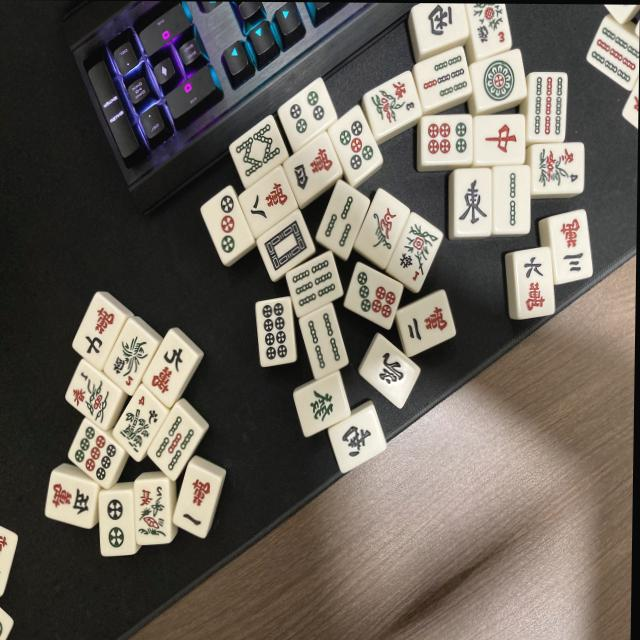bai: (255, 209, 319, 283)
east: (452, 168, 493, 238)
f1: (385, 212, 443, 291)
f2: (101, 320, 162, 396)
f3: (463, 3, 513, 59)
f4: (110, 388, 169, 463)
fa: (294, 371, 353, 439)
ff1: (63, 360, 124, 431)
ff2: (131, 478, 172, 547)
ff3: (359, 69, 420, 136)
ff4: (531, 145, 584, 197)
m1: (173, 467, 223, 540)
m2: (394, 293, 456, 360)
m3: (546, 210, 592, 284)
m4: (278, 130, 341, 204)
m5: (42, 470, 98, 529)
m6: (511, 249, 554, 321)
m7: (70, 291, 133, 369)
m8: (237, 167, 300, 238)
m9: (140, 329, 203, 407)
north: (360, 334, 422, 406)
s1: (353, 189, 410, 267)
s2: (491, 166, 529, 236)
s3: (314, 181, 369, 258)
s4: (297, 305, 349, 381)
s5: (145, 405, 207, 479)
s6: (285, 252, 344, 319)
s7: (413, 48, 471, 107)
s8: (226, 119, 288, 188)
s9: (585, 17, 640, 89), (524, 70, 568, 144)
south: (326, 405, 386, 473)
t1: (468, 47, 525, 112)
t2: (96, 487, 139, 558)
t3: (199, 189, 257, 268)
t4: (274, 79, 338, 153)
t5: (327, 107, 384, 186)
t6: (420, 114, 474, 166)
t7: (344, 261, 405, 331)
t8: (253, 295, 297, 366)
t9: (63, 418, 125, 488)
west: (409, 3, 469, 54)
zhong: (472, 114, 526, 166)
